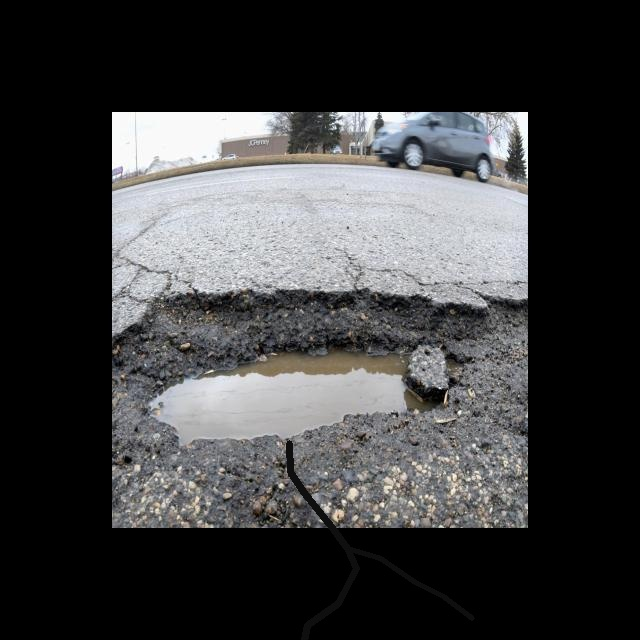road_crack: (279, 433, 366, 640)
